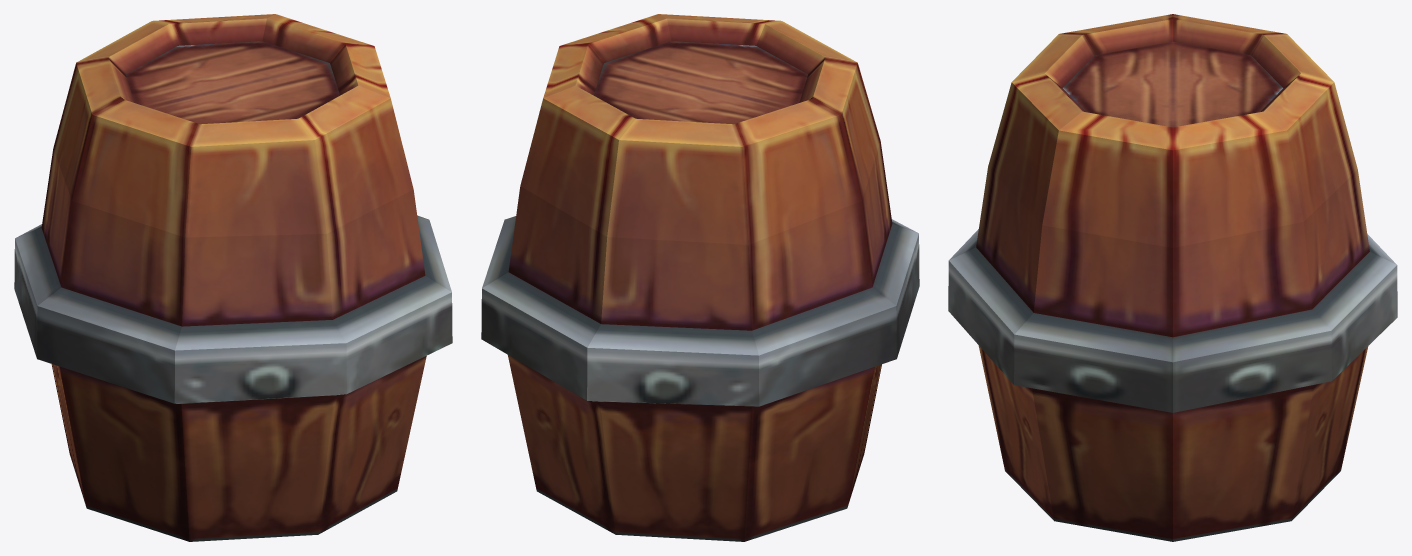
The model's file is vat1.FBX.
3 renders of one model, left to right at view 1: azimuth 30°, elevation 25°; view 2: azimuth 150°, elevation 25°; view 3: azimuth 270°, elevation 25°, orthographic.
Visible parts, largest first — view 1: vat1; view 2: vat1; view 3: vat1.
Part boxes in pixels (x1,y1,x2,y2): vat1: (14, 14, 452, 541); vat1: (481, 14, 919, 541); vat1: (948, 14, 1397, 541).
Bounding box in the file's own units: 127 × 124 × 127.
Materials: 1 (1 with a texture image).
